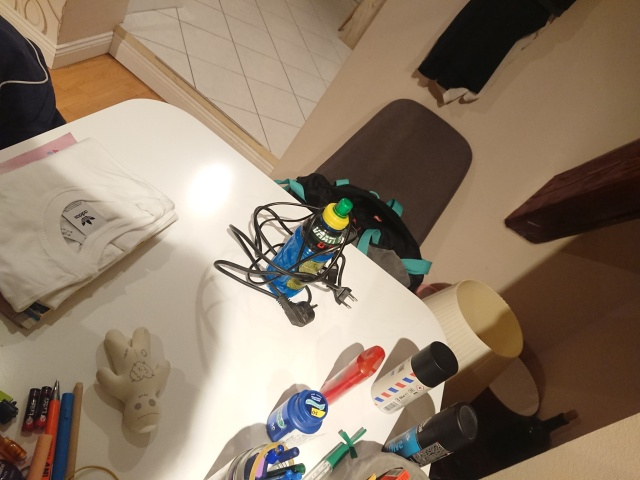Vindi Iso Sport Forest Strawberries 500mL: (263, 195, 354, 298)
